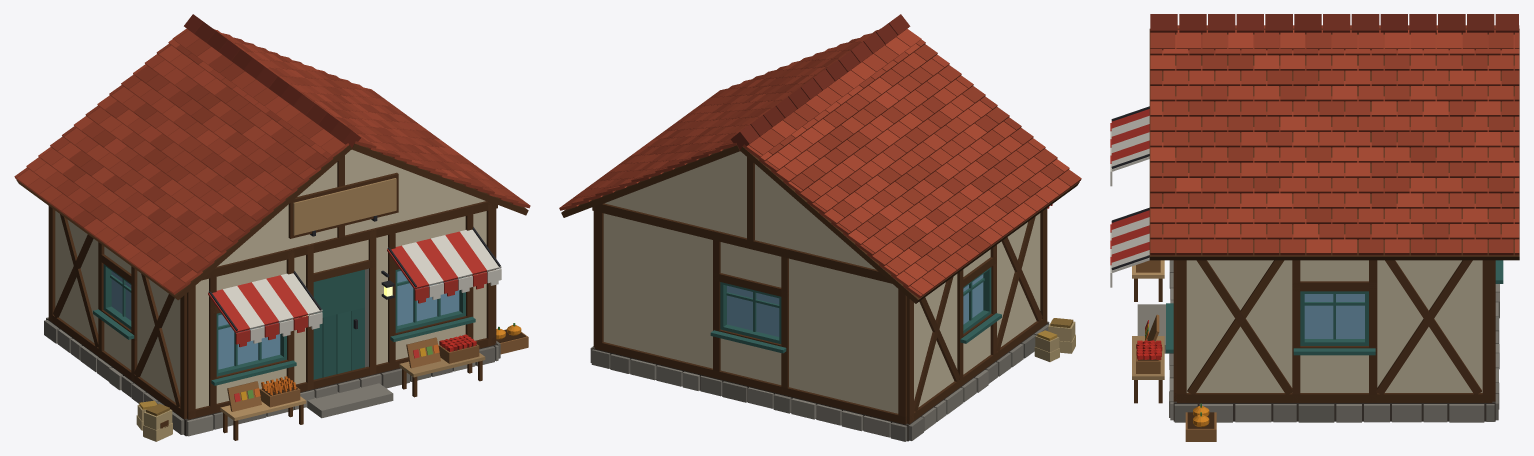
Rendered from tienda_semillas.glb.
The picture shows the model from 3 angles, left to right: view 1: azimuth 30°, elevation 25°; view 2: azimuth 150°, elevation 25°; view 3: azimuth 270°, elevation 25°; orthographic projection. The views are drawn at different scales.
Parts seen in each view (by area): view 1: SM_Tienda_semillas; view 2: SM_Tienda_semillas; view 3: SM_Tienda_semillas.
Part boxes in pixels (x1=…): SM_Tienda_semillas: x1=14, y1=14, x2=530, y2=441; SM_Tienda_semillas: x1=559, y1=14, x2=1081, y2=441; SM_Tienda_semillas: x1=1110, y1=14, x2=1519, y2=441.
Size of the model in its own units: 7.44 by 5.14 by 5.98.
